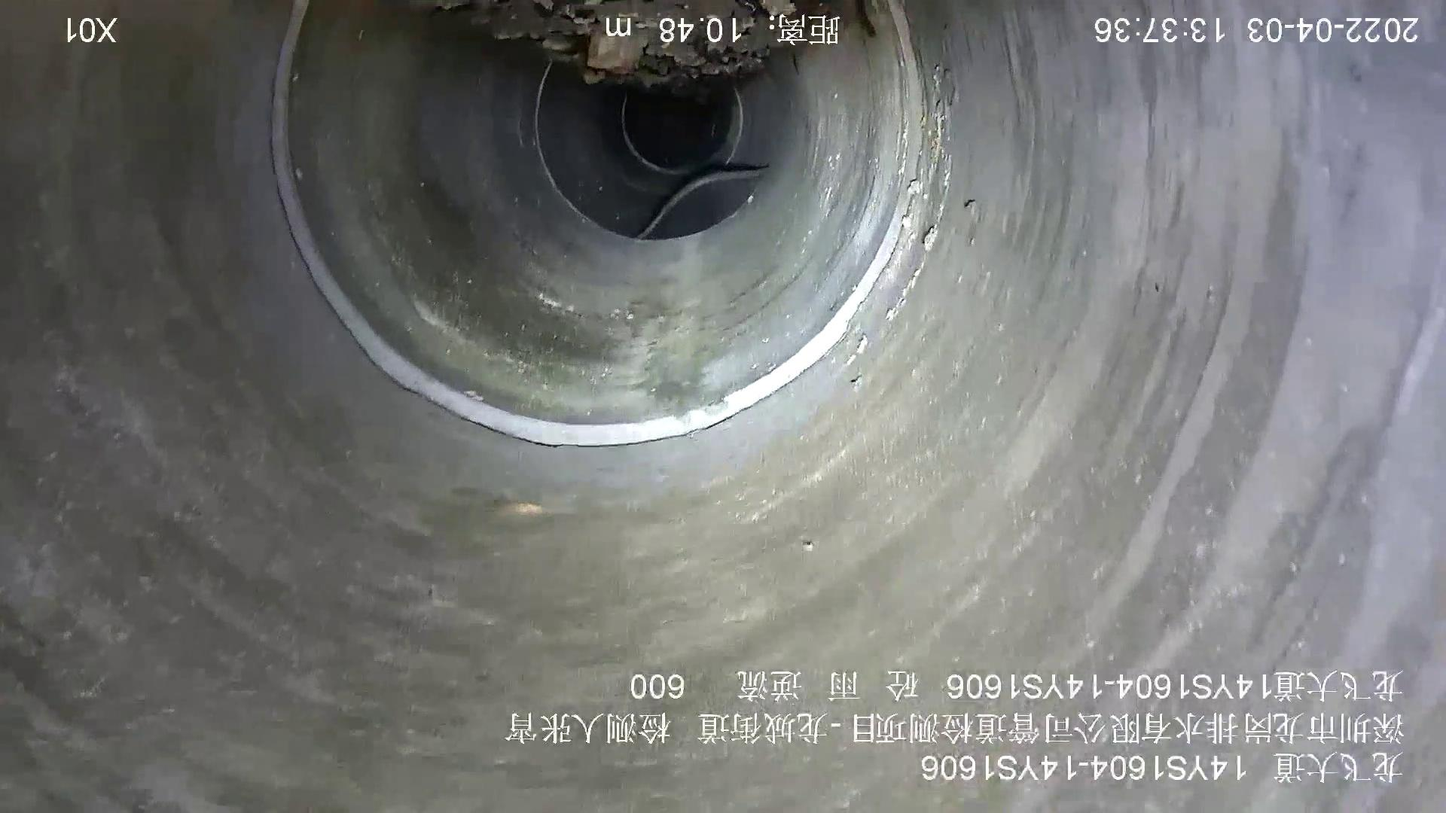CJ: (409, 1, 841, 95)
CKTJ: (271, 1, 922, 446), (532, 60, 759, 244), (619, 88, 707, 177)
JKCL: (635, 166, 768, 240)
